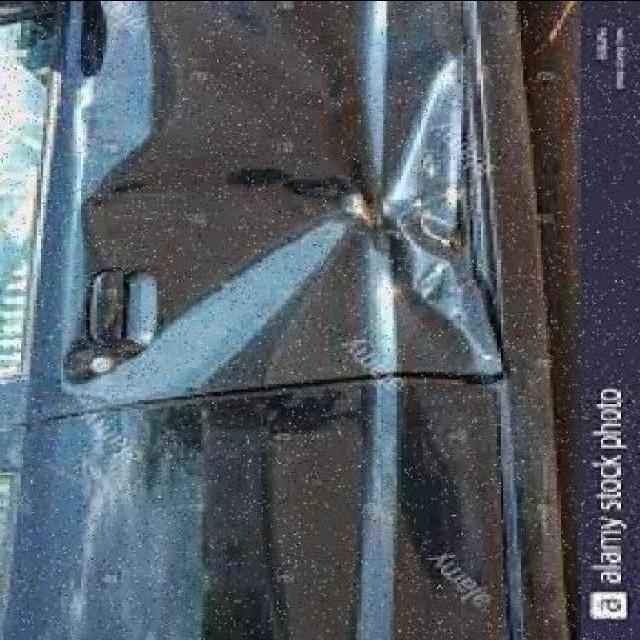doorouter-dent: (3, 1, 499, 390)
